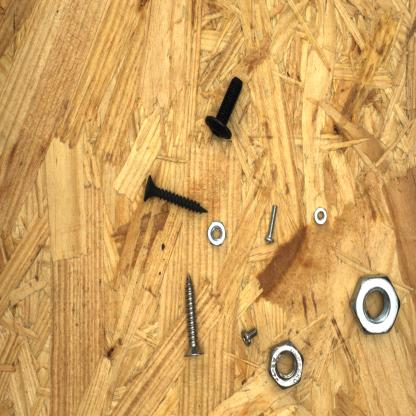screw: (140, 170, 210, 220), (201, 73, 249, 143), (181, 270, 207, 359), (262, 202, 280, 246), (236, 324, 262, 351)
